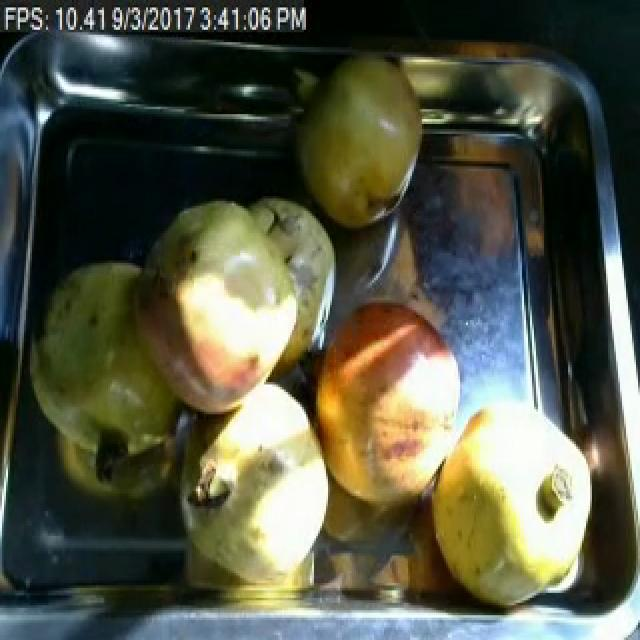fruit: (112, 184, 352, 442), (418, 390, 606, 625), (302, 286, 472, 528), (172, 367, 346, 591), (292, 47, 432, 238)
